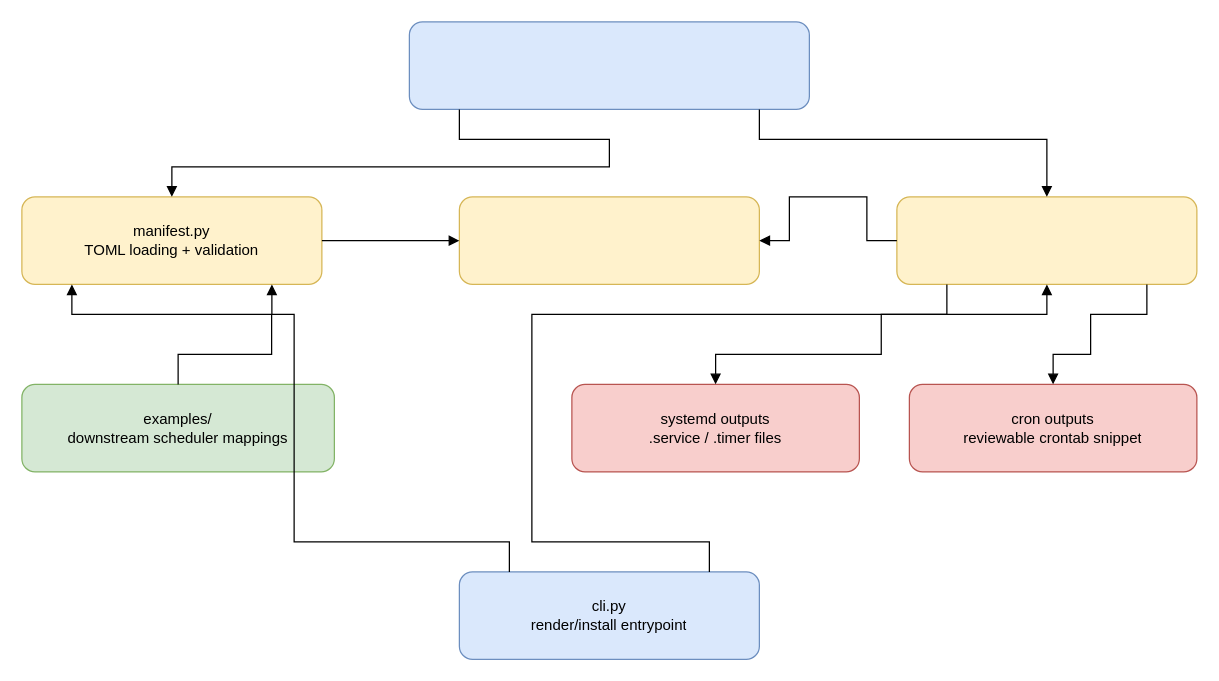
Some shapes in this 1219 by 681 pixel diagram are drawn without their labels. The shapes that lost their labels are listed below. From the top down, each one's centre as x and y in pixels, then its label:
At point 608,65: "clockwork shared scheduler repo".
At point 608,240: "model.py scheduler dataclasses".
At point 1046,240: "render.py systemd + cron renderers".
